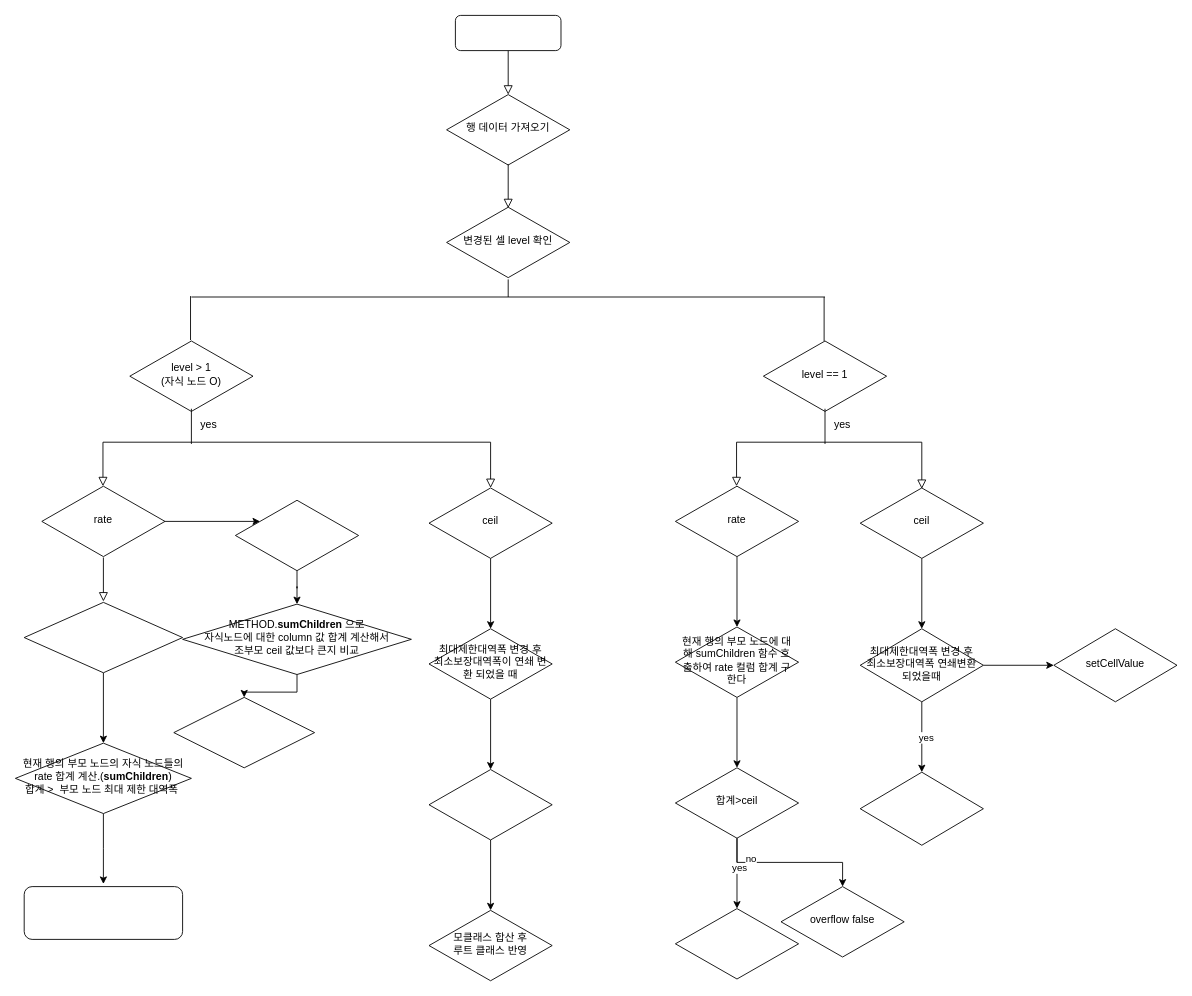
Some shapes in this 1192 by 996 pixel diagram are drawn without their labels. The shapes that lost their labels are listed below. From the top down, each one's box as (x1, y1, x2, y2) in pixels, then its label:
(455, 15, 561, 51): 셀 수정
(235, 499, 359, 571): level == 3
(23, 601, 183, 673): 해당 행의 상위 노드 rate값 합산하여 새로 설정
(173, 697, 315, 768): 새로운 rate 값 설정 setCellValue 함수
(428, 769, 552, 840): 자클래스 합산 후 모클래스 반영
(859, 771, 983, 845): 자클래스 합산후 모클래스 반영, 모클래스 합산후 루트 클래스에 반영
(23, 886, 183, 939): 모클래스 합산 후 루트 클래스에 반영, 계산된 합계 최대값 초과하는지 보고 overflow 플래그 설정
(675, 908, 799, 979): overflow true
